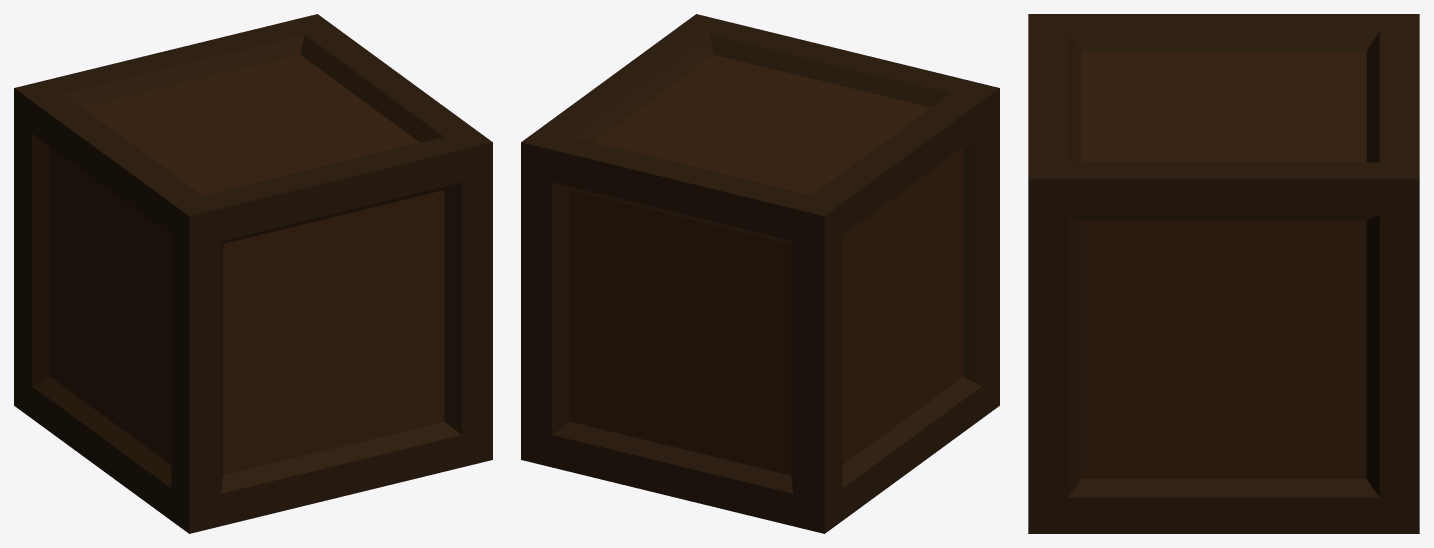
Rendered from woodenCrate_type_02.fbx.
The picture shows the model from 3 angles, left to right: view 1: azimuth 30°, elevation 25°; view 2: azimuth 150°, elevation 25°; view 3: azimuth 270°, elevation 25°; orthographic projection. The views are drawn at different scales.
Parts seen in each view (by area): view 1: woodenCrate_type_02; view 2: woodenCrate_type_02; view 3: woodenCrate_type_02.
Part boxes in pixels (box(x1,y1,x2,y2)): woodenCrate_type_02: box(14, 14, 492, 533); woodenCrate_type_02: box(521, 14, 999, 533); woodenCrate_type_02: box(1028, 14, 1419, 533).
Bounding box in the file's own units: 47.29 × 47.29 × 47.29.
